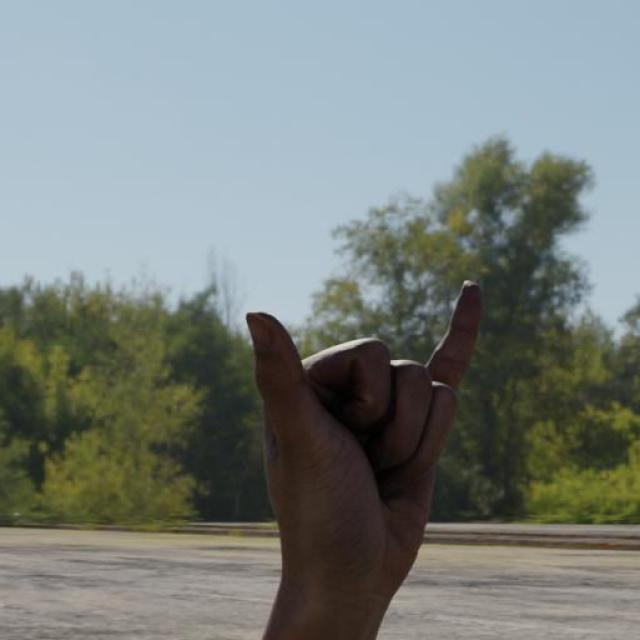Y: (202, 231, 520, 640)
